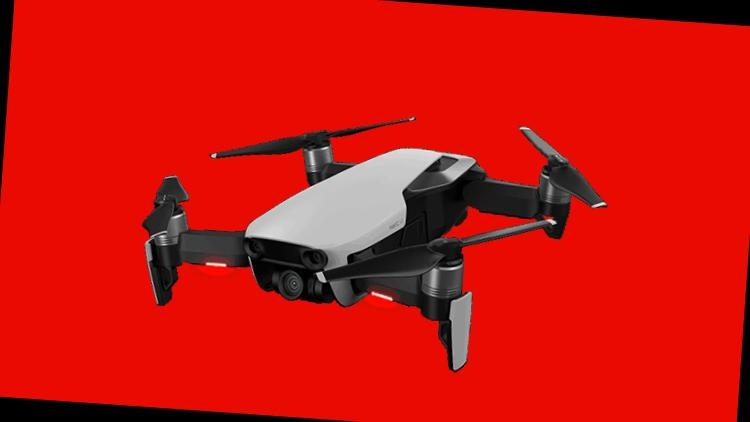drone: (121, 90, 624, 374)
